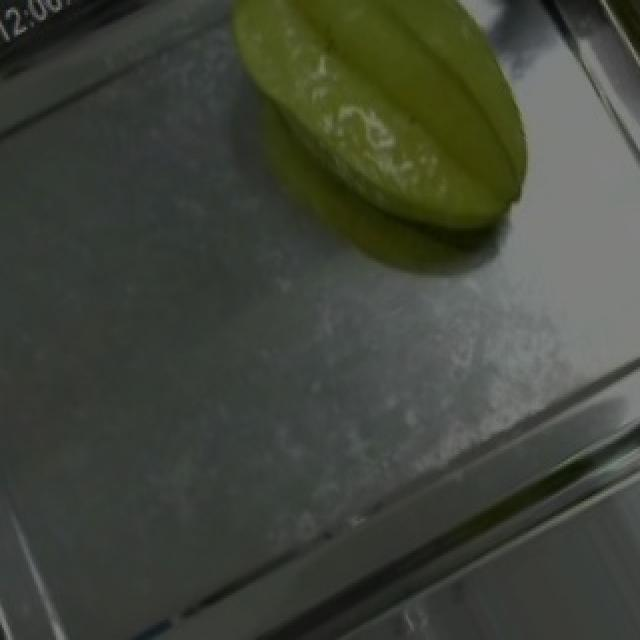fruit: (190, 0, 582, 298)
